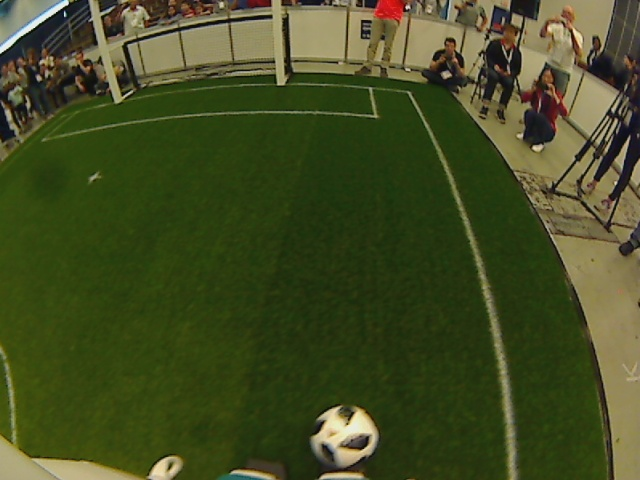ball: (307, 404, 381, 473)
